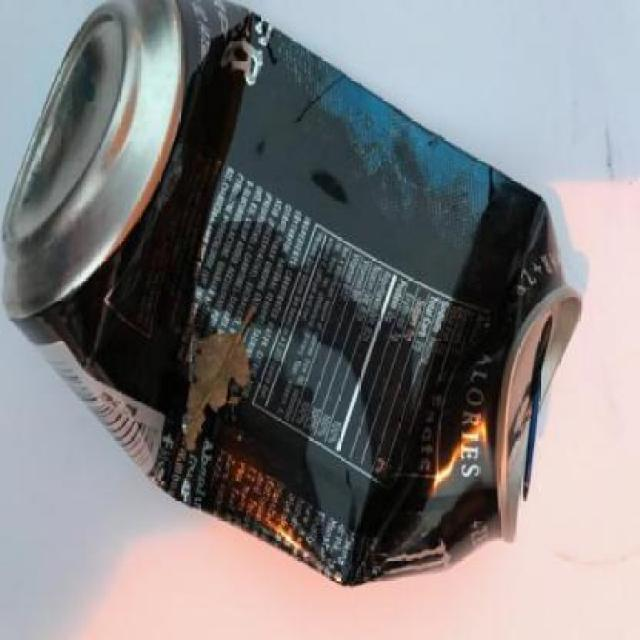METAL: (1, 2, 585, 589)
